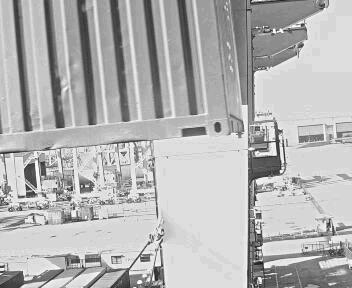twist_lock_1: (233, 120, 248, 144)
